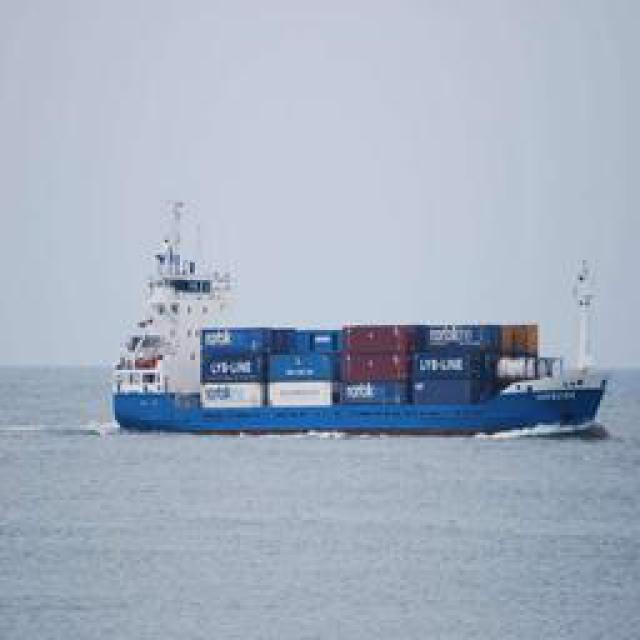Ship: (114, 279, 614, 442)
